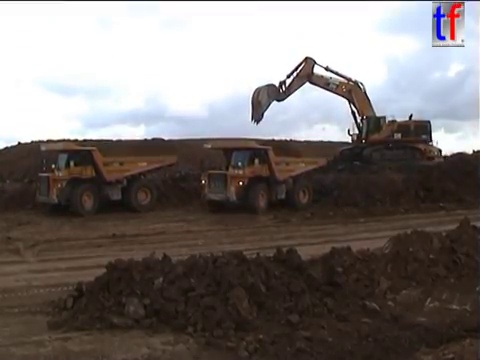excavator: (248, 54, 444, 169)
truck: (34, 138, 177, 217), (199, 138, 328, 214)
